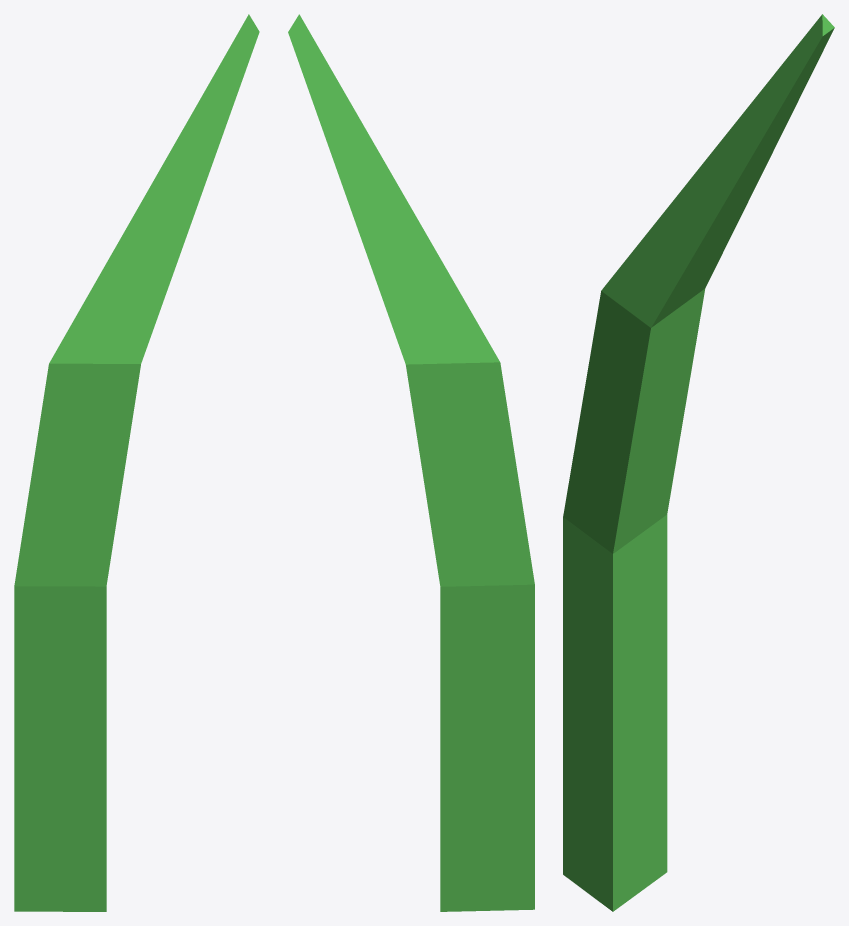
File: blade1.glb
The picture shows the model from 3 angles, left to right: view 1: azimuth 30°, elevation 25°; view 2: azimuth 150°, elevation 25°; view 3: azimuth 330°, elevation 25°; orthographic projection. The views are drawn at different scales.
Parts seen in each view (by area): view 1: 1; view 2: 1; view 3: 1.
Boxes of the visible parts, x1,y1,x2,y2 form: 1: [14, 14, 259, 911]; 1: [288, 14, 534, 911]; 1: [563, 14, 834, 911].
Size of the model in its own units: 0.1468 by 0.4894 by 0.0521.
